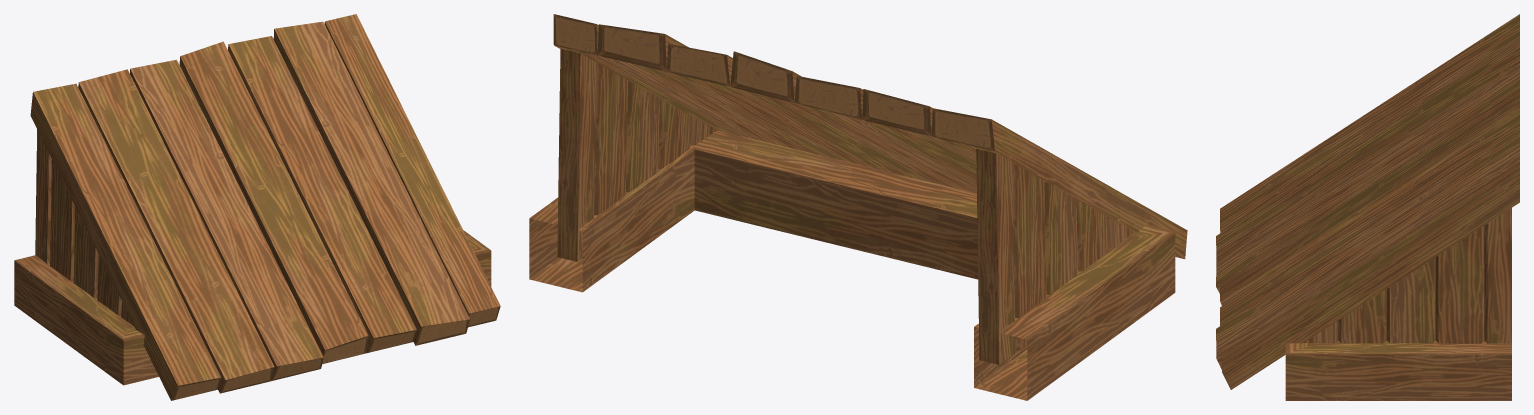
File: Roof_Wooden_2x1.glb
3 views of the same model, side by side, from view 1: azimuth 30°, elevation 25°; view 2: azimuth 150°, elevation 25°; view 3: azimuth 270°, elevation 25° (orthographic). The views are drawn at different scales.
Parts seen in each view (by area): view 1: Roof_Wooden_2x1; view 2: Roof_Wooden_2x1; view 3: Roof_Wooden_2x1.
Boxes of the visible parts, x1,y1,x2,y2 form: Roof_Wooden_2x1: (14,14,500,400); Roof_Wooden_2x1: (529,14,1187,400); Roof_Wooden_2x1: (1216,14,1519,400).
Bounding box in the file's own units: 2.26 × 1.25 × 1.56.
1 material, 1 textured.
